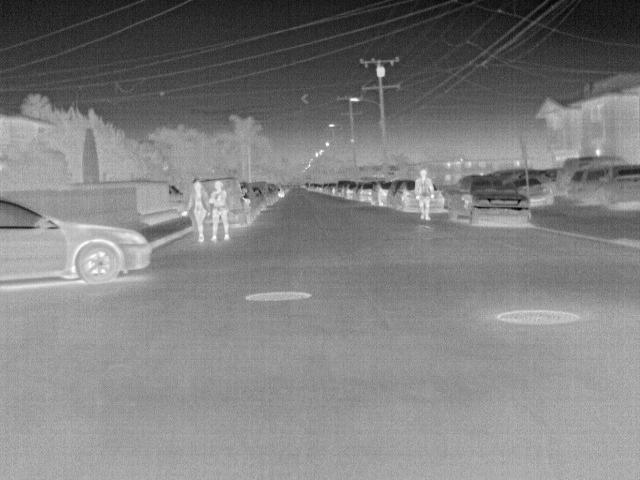car: (2, 197, 152, 291), (441, 174, 535, 230), (566, 165, 615, 211), (599, 163, 637, 212), (506, 174, 556, 208), (219, 177, 248, 229), (240, 180, 259, 218), (373, 180, 395, 208), (396, 181, 416, 211), (250, 180, 272, 207), (387, 180, 404, 208), (356, 181, 373, 205), (251, 188, 267, 213), (336, 180, 354, 199), (346, 183, 358, 202)
person: (181, 179, 211, 243), (207, 178, 231, 241), (416, 168, 436, 220)
